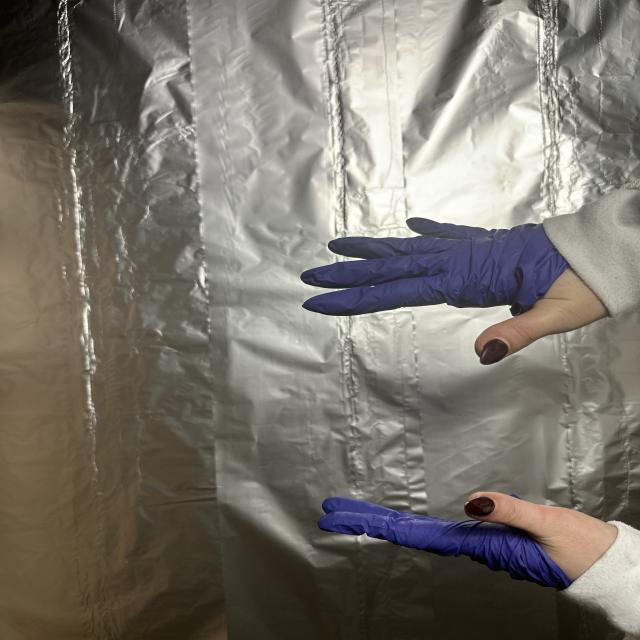glove_partial: (299, 211, 612, 364), (316, 485, 622, 592)
